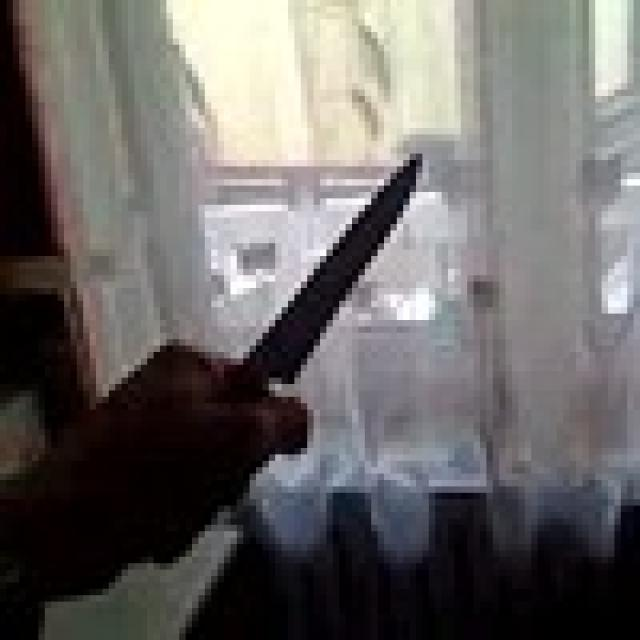Knife: (243, 141, 442, 435)
